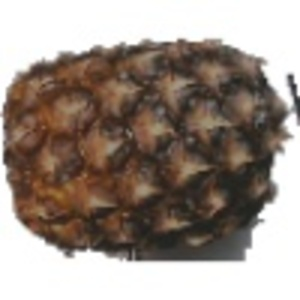abacaxi: (2, 34, 294, 252)
